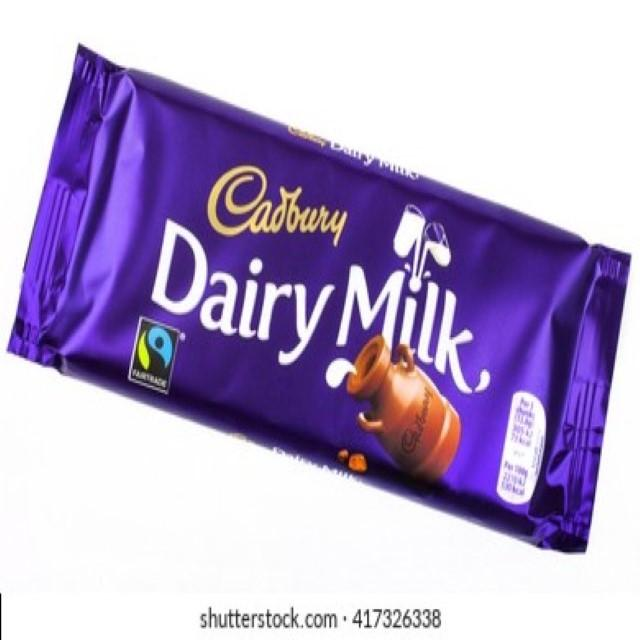cadbury_chocolate: (27, 55, 635, 545)
